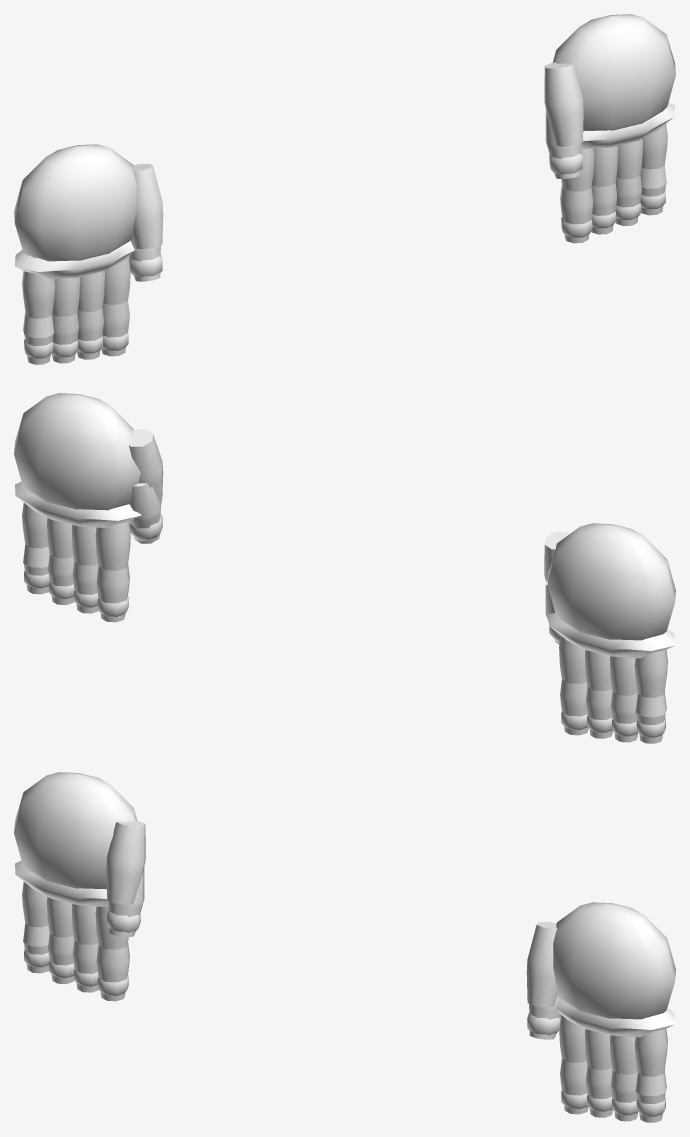
Rendered from Rookie_Hands.fbx.
3 renders of one model, top to bottom at view 1: azimuth 30°, elevation 25°; view 2: azimuth 150°, elevation 25°; view 3: azimuth 330°, elevation 25°, orthographic.
Parts seen in each view (by area): view 1: Rookie_Hand_Right_Palm, Rookie_Hand_Left_Palm, Rookie_Hand_Right_Fingers2, Rookie_Hand_Left_Fingers2, Rookie_Hand_Right_Fingers1, Rookie_Hand_Left_Thumb1, Rookie_Hand_Left_Fingers1, Rookie_Hand_Right_Thumb1, Rookie_Hand_Left_Index2, Rookie_Hand_Right_Index2, Rookie_Hand_Left_Thumb2, Rookie_Hand_Right_Index1 (+2 smaller); view 2: Rookie_Hand_Right_Palm, Rookie_Hand_Left_Palm, Rookie_Hand_Right_Fingers2, Rookie_Hand_Left_Fingers2, Rookie_Hand_Right_Fingers1, Rookie_Hand_Left_Fingers1, Rookie_Hand_Left_Thumb2, Rookie_Hand_Left_Index2, Rookie_Hand_Left_Thumb1, Rookie_Hand_Left_Index1, Rookie_Hand_Right_Index2, Rookie_Hand_Right_Index1; view 3: Rookie_Hand_Left_Palm, Rookie_Hand_Right_Palm, Rookie_Hand_Left_Fingers2, Rookie_Hand_Right_Fingers2, Rookie_Hand_Left_Fingers1, Rookie_Hand_Right_Thumb1, Rookie_Hand_Right_Fingers1, Rookie_Hand_Left_Thumb1, Rookie_Hand_Right_Index2, Rookie_Hand_Left_Index2, Rookie_Hand_Right_Thumb2, Rookie_Hand_Left_Index1 (+2 smaller).
Boxes of the visible parts, x1,y1,x2,y2 form: Rookie_Hand_Right_Palm: (14,144,136,279); Rookie_Hand_Left_Palm: (552,14,675,148); Rookie_Hand_Right_Fingers2: (23,308,103,364); Rookie_Hand_Left_Fingers2: (591,165,666,234); Rookie_Hand_Right_Fingers1: (22,256,104,318); Rookie_Hand_Left_Thumb1: (544,62,583,146); Rookie_Hand_Left_Fingers1: (592,124,667,186); Rookie_Hand_Right_Thumb1: (132,163,163,249); Rookie_Hand_Left_Index2: (560,185,593,243); Rookie_Hand_Right_Index2: (101,300,129,356); Rookie_Hand_Left_Thumb2: (545,109,582,178); Rookie_Hand_Right_Index1: (103,257,130,304); Rookie_Hand_Right_Palm: (547,523,675,658); Rookie_Hand_Left_Palm: (14,393,141,527); Rookie_Hand_Right_Fingers2: (586,687,666,743); Rookie_Hand_Left_Fingers2: (23,544,98,613); Rookie_Hand_Right_Fingers1: (585,635,667,697); Rookie_Hand_Left_Fingers1: (22,503,97,565); Rookie_Hand_Left_Thumb2: (129,483,162,543); Rookie_Hand_Left_Index2: (96,564,129,622); Rookie_Hand_Left_Thumb1: (129,429,163,504); Rookie_Hand_Left_Index1: (95,521,130,570); Rookie_Hand_Right_Index2: (560,679,588,735); Rookie_Hand_Right_Index1: (559,635,586,683); Rookie_Hand_Left_Palm: (553,902,675,1037); Rookie_Hand_Right_Palm: (14,772,137,906); Rookie_Hand_Left_Fingers2: (586,1066,666,1122); Rookie_Hand_Right_Fingers2: (23,923,98,992); Rookie_Hand_Left_Fingers1: (585,1014,667,1076); Rookie_Hand_Right_Thumb1: (106,820,145,904); Rookie_Hand_Right_Fingers1: (22,882,97,944); Rookie_Hand_Left_Thumb1: (526,921,557,1007); Rookie_Hand_Right_Index2: (96,943,129,1001); Rookie_Hand_Left_Index2: (560,1058,588,1114); Rookie_Hand_Right_Thumb2: (107,867,144,936); Rookie_Hand_Left_Index1: (559,1015,586,1062).
Size of the model in its own units: 2.92 by 0.9047 by 0.3234.
1 material, 1 textured.
